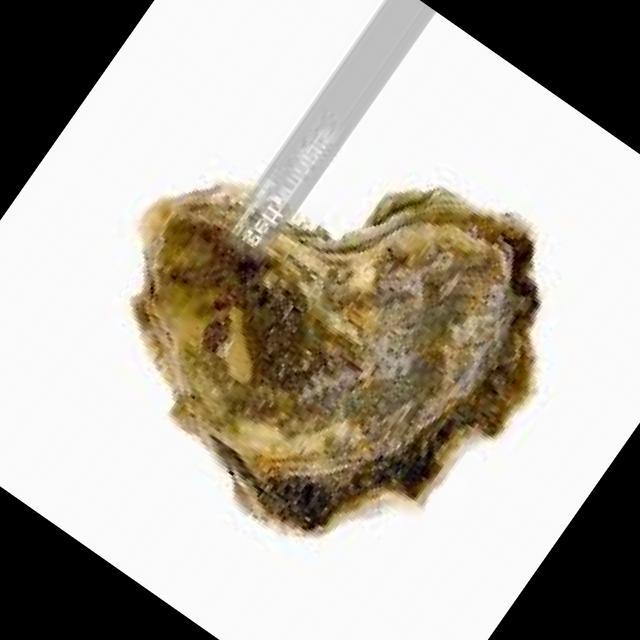Oyster- Indeterminate: (135, 185, 538, 530)
